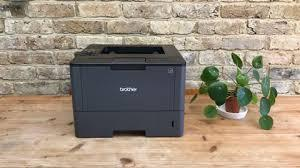printer: (69, 43, 186, 138)
